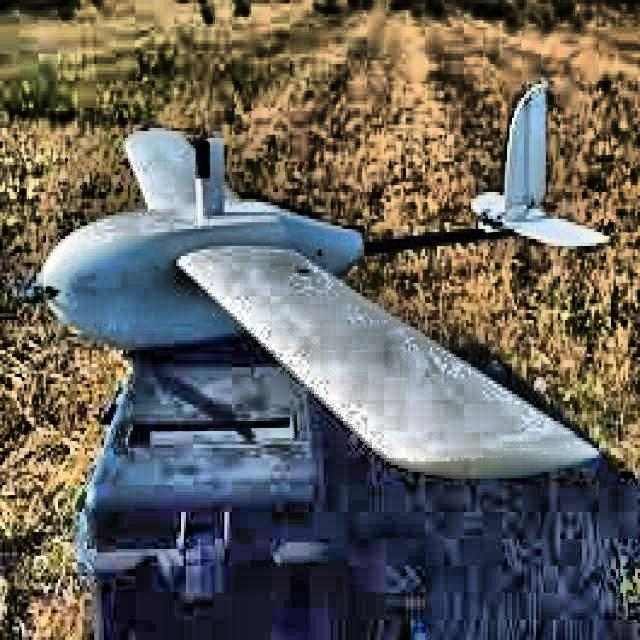iha: (35, 75, 612, 493)
